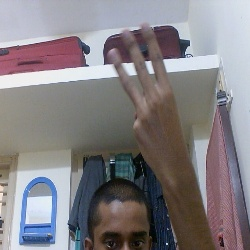hand: (87, 25, 199, 174)
